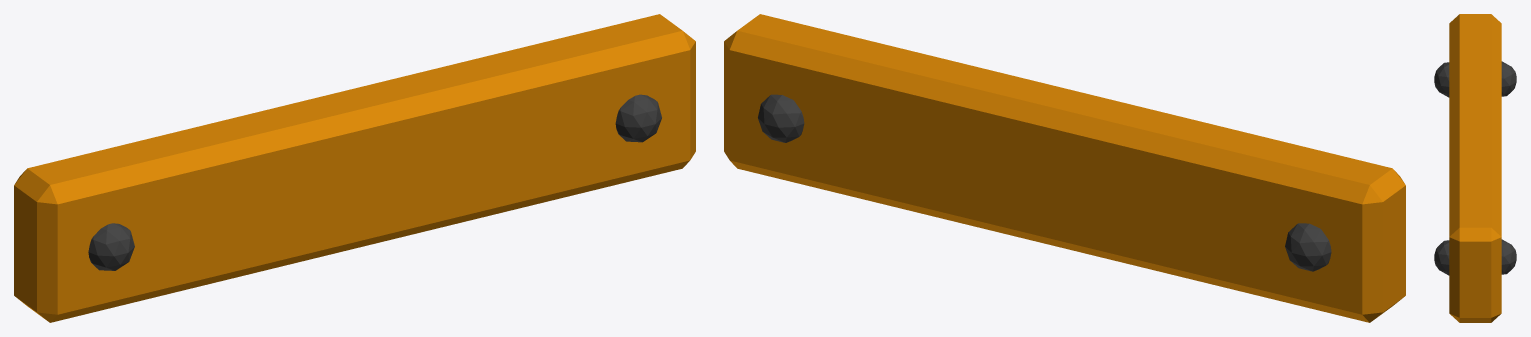
Rendered from BarID.fbx.
The picture shows the model from 3 angles, left to right: view 1: azimuth 30°, elevation 25°; view 2: azimuth 150°, elevation 25°; view 3: azimuth 270°, elevation 25°; orthographic projection. The views are drawn at different scales.
Parts seen in each view (by area): view 1: BarID; view 2: BarID; view 3: BarID.
Part boxes in pixels (x1,y1,x2,y2): BarID: [14, 14, 695, 322]; BarID: [724, 14, 1405, 322]; BarID: [1434, 14, 1516, 322].
Bounding box in the file's own units: 1000 × 200 × 157.
